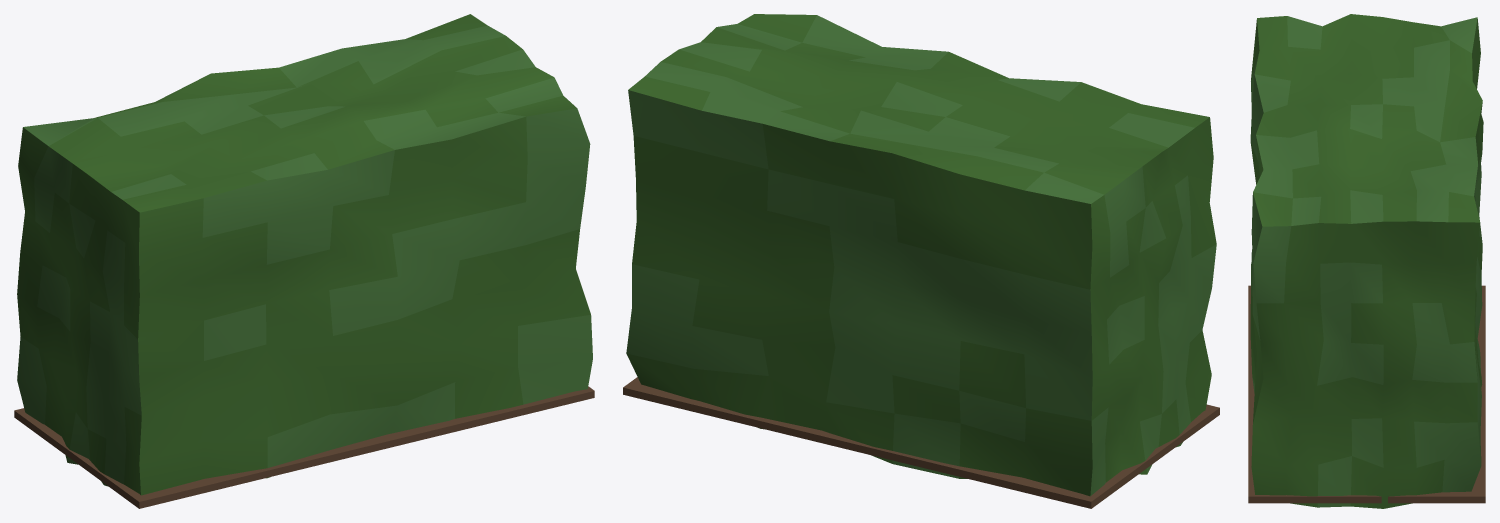
The model's file is hedge.glb.
3 renders of one model, left to right at view 1: azimuth 30°, elevation 25°; view 2: azimuth 150°, elevation 25°; view 3: azimuth 270°, elevation 25°, orthographic. The views are drawn at different scales.
Parts seen in each view (by area): view 1: hedge; view 2: hedge; view 3: hedge.
Boxes of the visible parts, x1=… form: hedge: x1=14, y1=14, x2=594, y2=508; hedge: x1=623, y1=14, x2=1219, y2=508; hedge: x1=1248, y1=14, x2=1485, y2=508.
Bounding box in the file's own units: 8.25 × 5.28 × 3.9.
